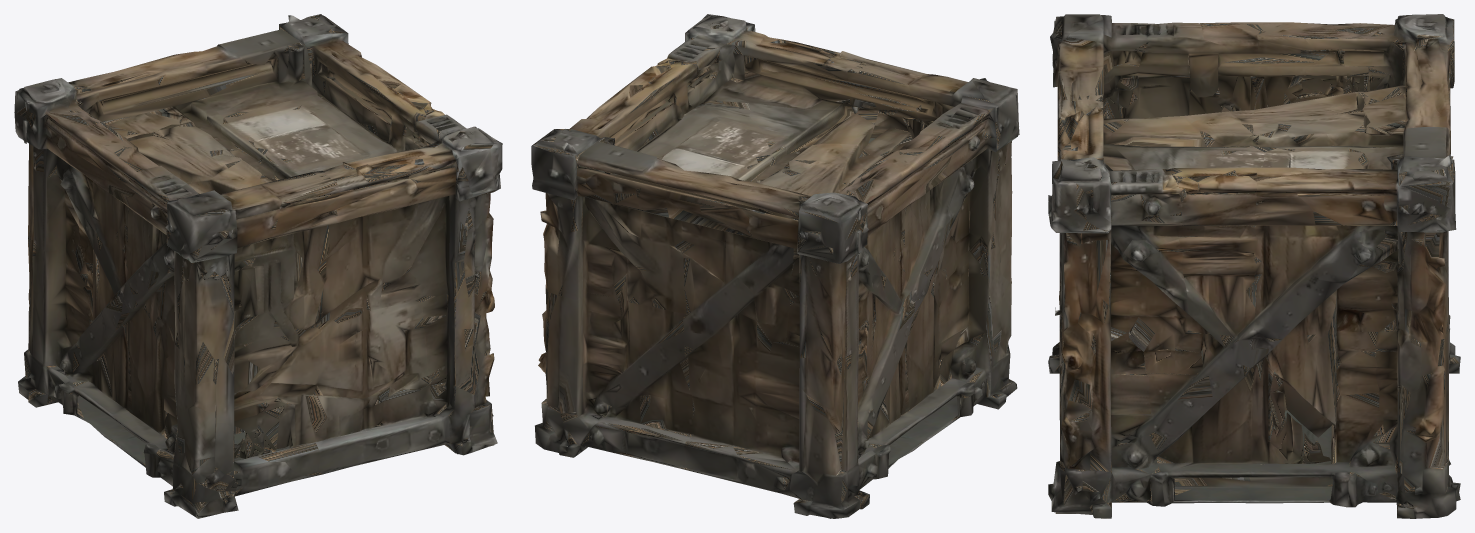
The model's file is wood_crate.glb.
The picture shows the model from 3 angles, left to right: view 1: azimuth 30°, elevation 25°; view 2: azimuth 150°, elevation 25°; view 3: azimuth 270°, elevation 25°; orthographic projection. The views are drawn at different scales.
Parts seen in each view (by area): view 1: tripo_node_08a66ee7-e811-412b-934a-4146752b0c3b; view 2: tripo_node_08a66ee7-e811-412b-934a-4146752b0c3b; view 3: tripo_node_08a66ee7-e811-412b-934a-4146752b0c3b.
Boxes of the visible parts, <box> form: tripo_node_08a66ee7-e811-412b-934a-4146752b0c3b: <box>14,14,502,518</box>; tripo_node_08a66ee7-e811-412b-934a-4146752b0c3b: <box>531,14,1019,518</box>; tripo_node_08a66ee7-e811-412b-934a-4146752b0c3b: <box>1048,14,1460,518</box>.
Bounding box in the file's own units: 0.9907 × 0.9198 × 0.9998.
1 material, 1 textured.
